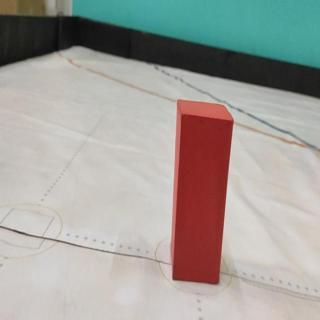redbox: (172, 100, 226, 287)
